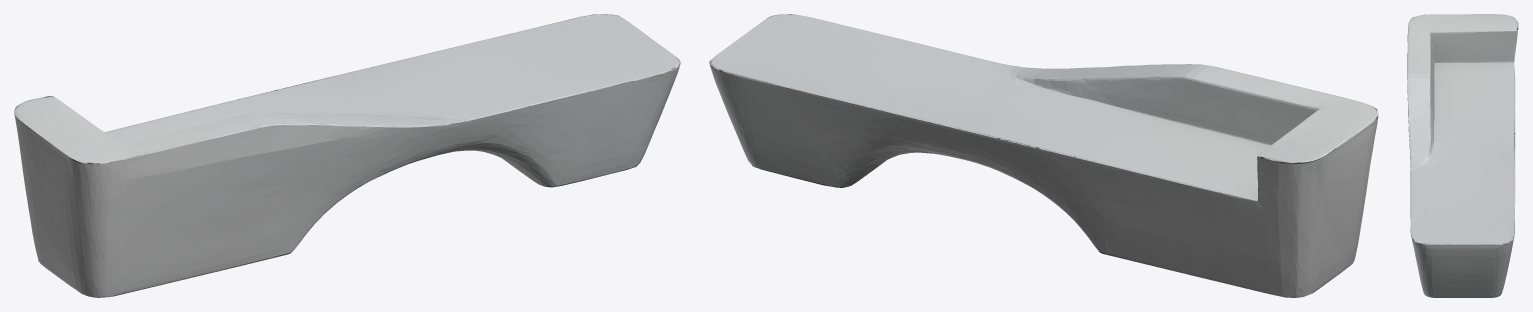
The model's file is Entrance Table.fbx.
3 renders of one model, left to right at view 1: azimuth 30°, elevation 25°; view 2: azimuth 150°, elevation 25°; view 3: azimuth 270°, elevation 25°, orthographic. The views are drawn at different scales.
Visible parts, largest first — view 1: world; view 2: world; view 3: world.
Part boxes in pixels (box(x1,y1,x2,y2)): world: box(14, 14, 680, 297); world: box(709, 14, 1378, 297); world: box(1407, 14, 1518, 297).
Size of the model in its own units: 1 by 0.2325 by 0.2378.
1 material, 1 textured.
